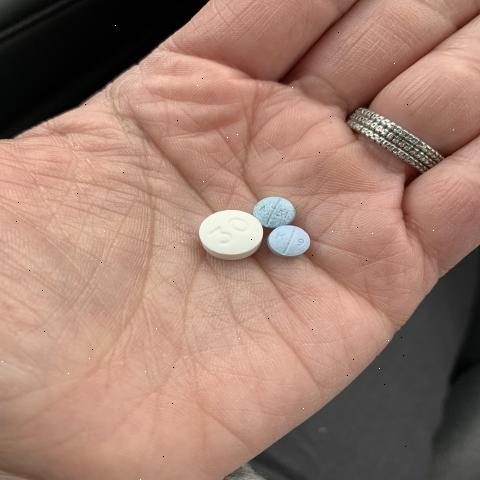hands: (186, 200, 265, 265)
